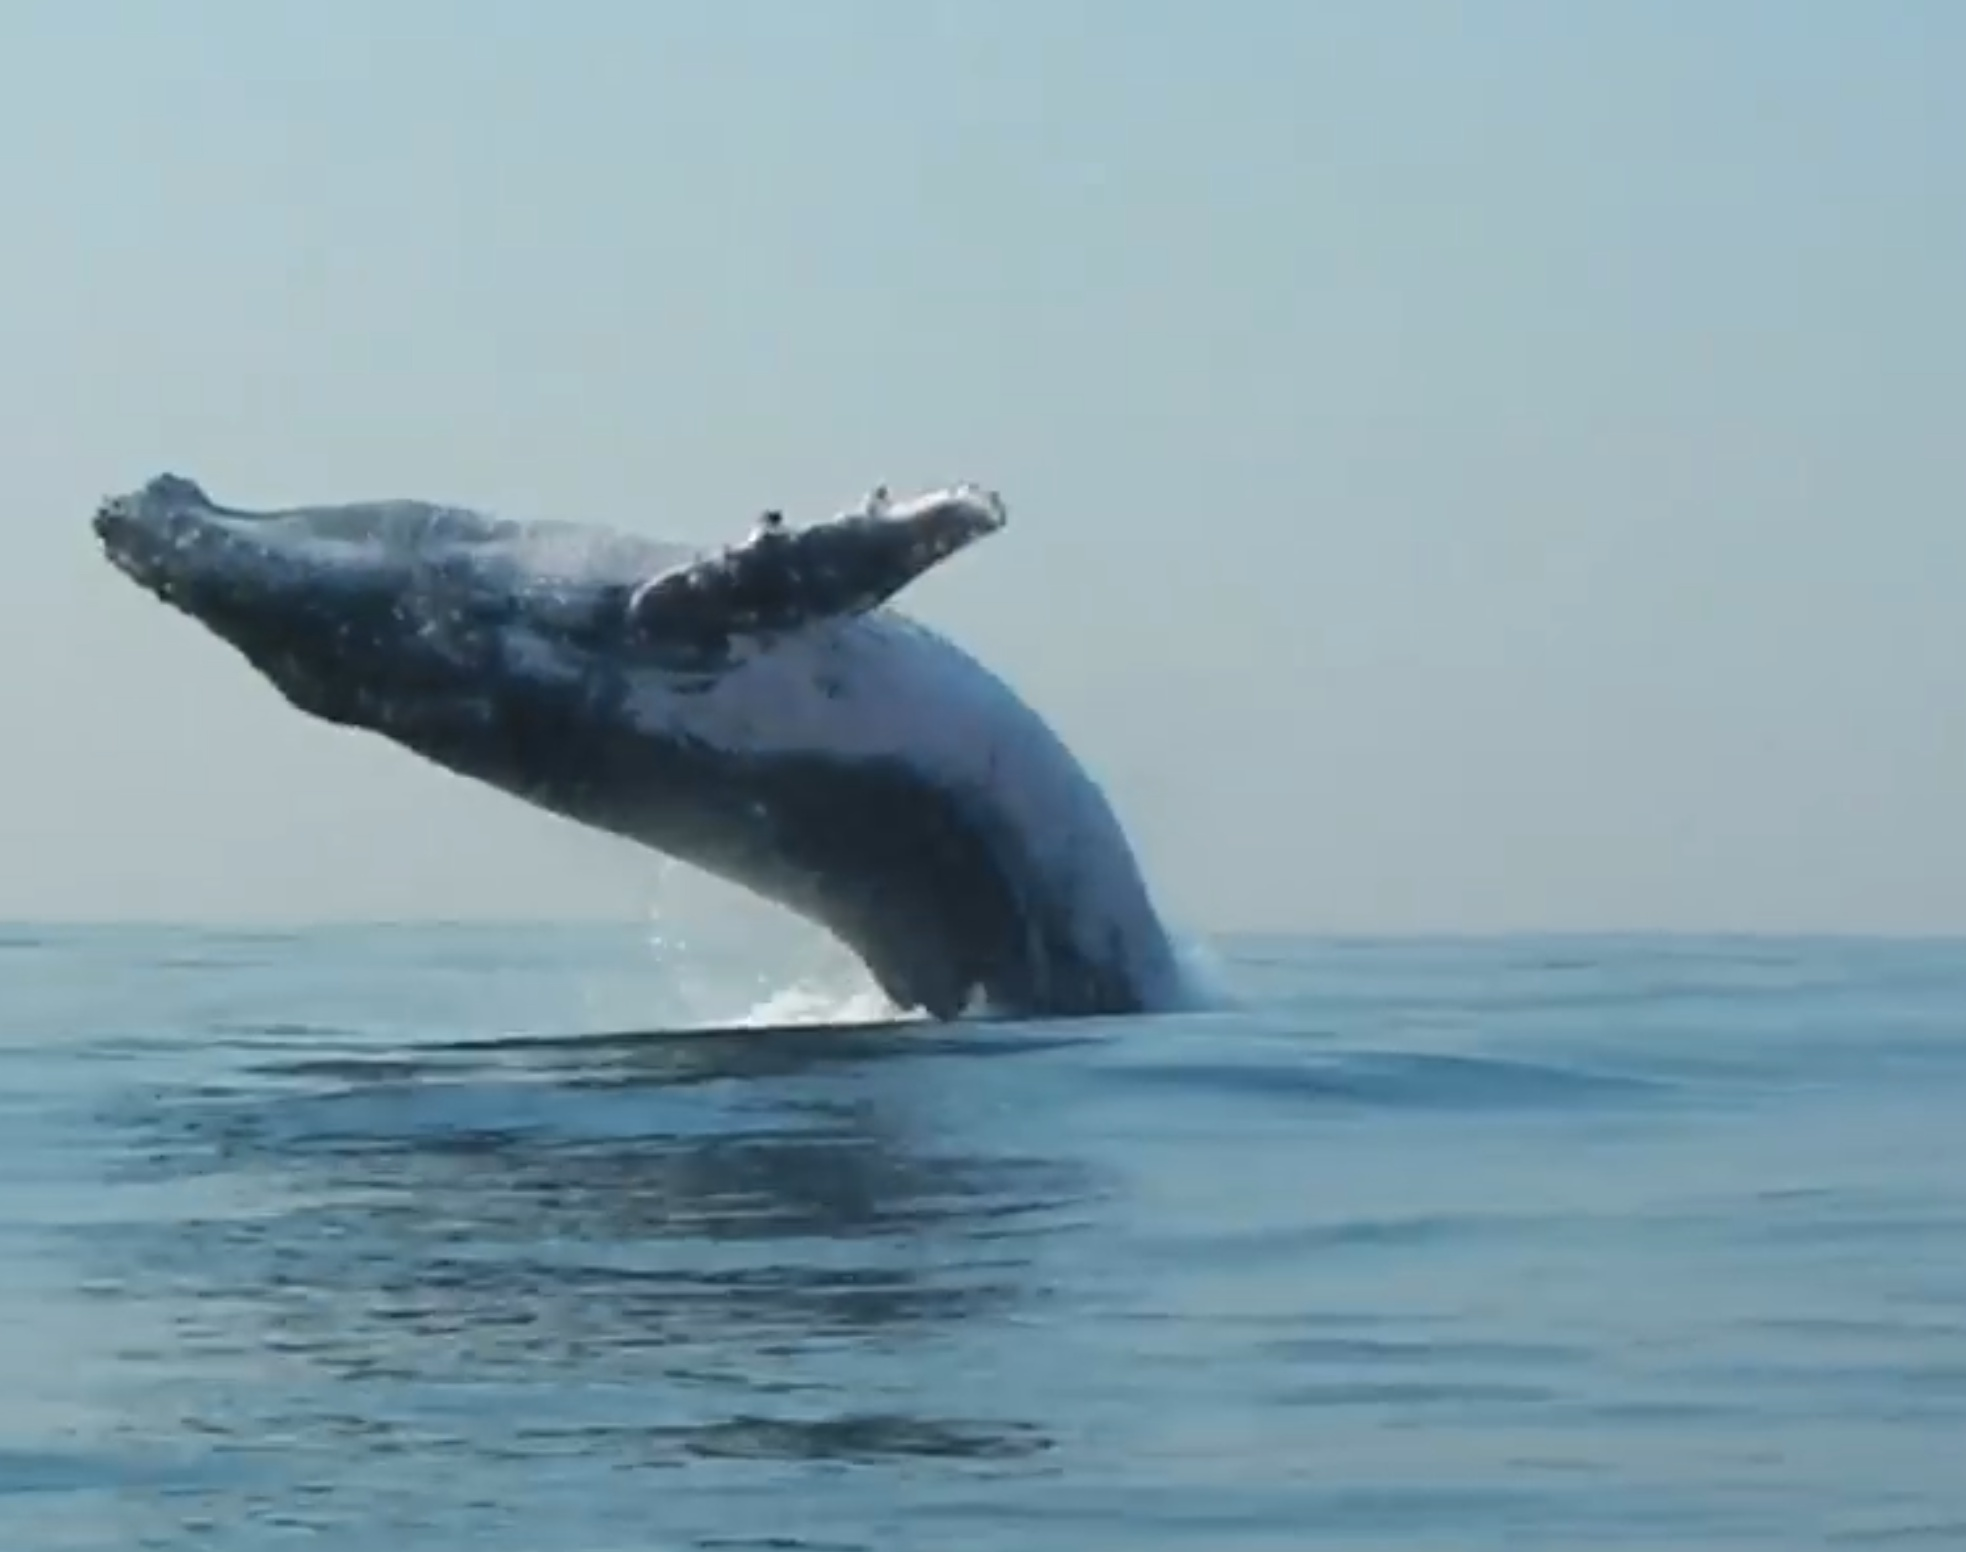humpback: (80, 459, 1210, 1018)
